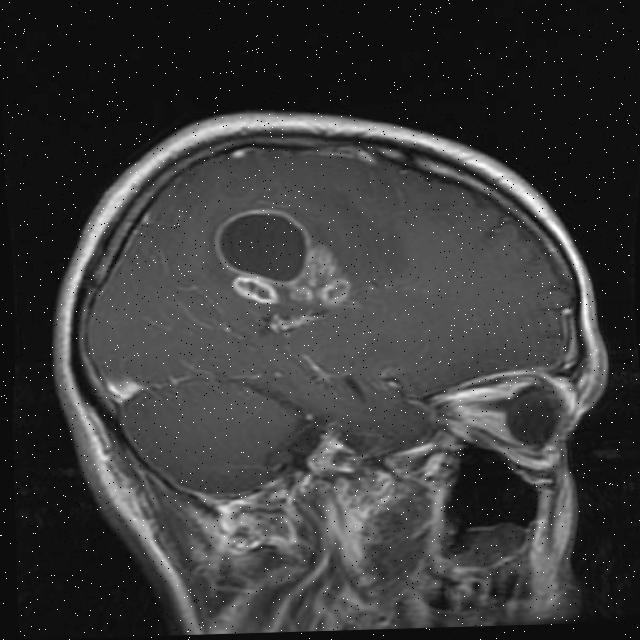Glioma: (212, 205, 317, 307), (308, 240, 354, 306)
